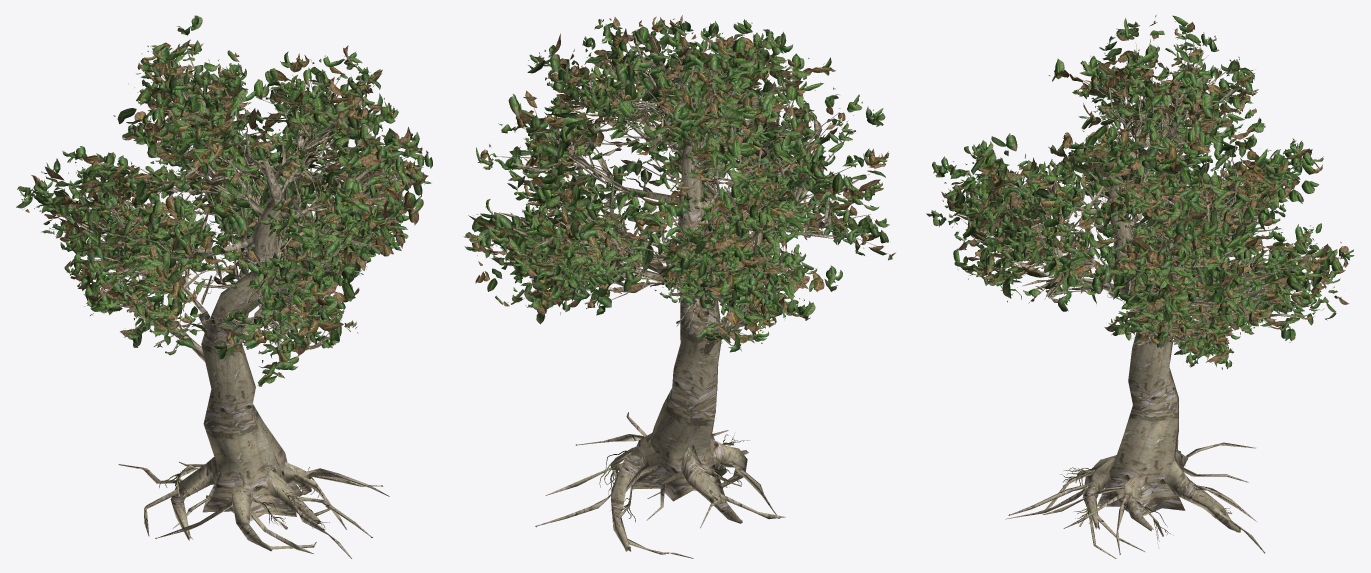
The model's file is kingsville_wood04.gltf.
3 renders of one model, left to right at view 1: azimuth 30°, elevation 25°; view 2: azimuth 150°, elevation 25°; view 3: azimuth 270°, elevation 25°, orthographic. The views are drawn at different scales.
Visible parts, largest first — view 1: Kingsville wood04; view 2: Kingsville wood04; view 3: Kingsville wood04.
Part boxes in pixels (bbox=[...]): Kingsville wood04: bbox=[16, 15, 432, 558]; Kingsville wood04: bbox=[463, 15, 895, 558]; Kingsville wood04: bbox=[926, 15, 1354, 558].
Size of the model in its own units: 3.46 by 4.73 by 3.75.
Materials: 4 (4 with a texture image).
